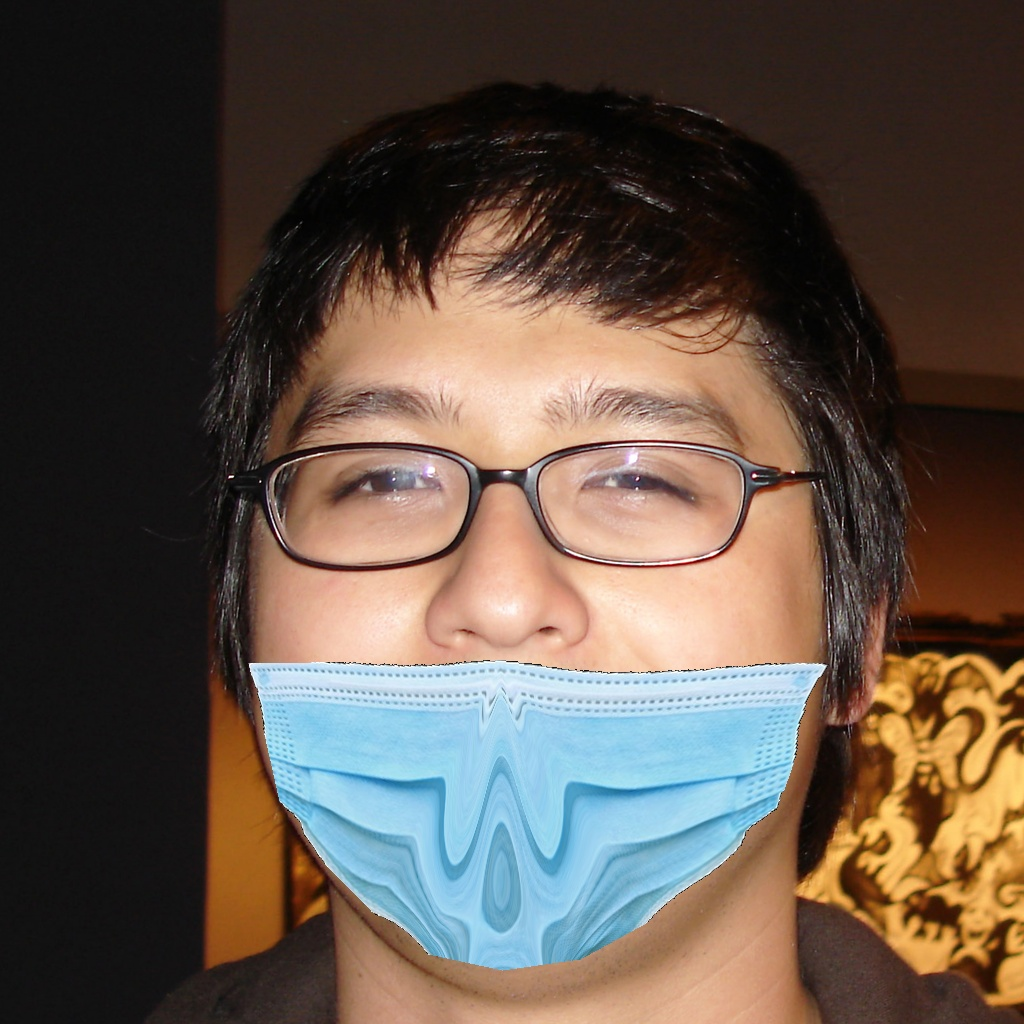mask_weared_incorrect: (216, 377, 861, 994)
